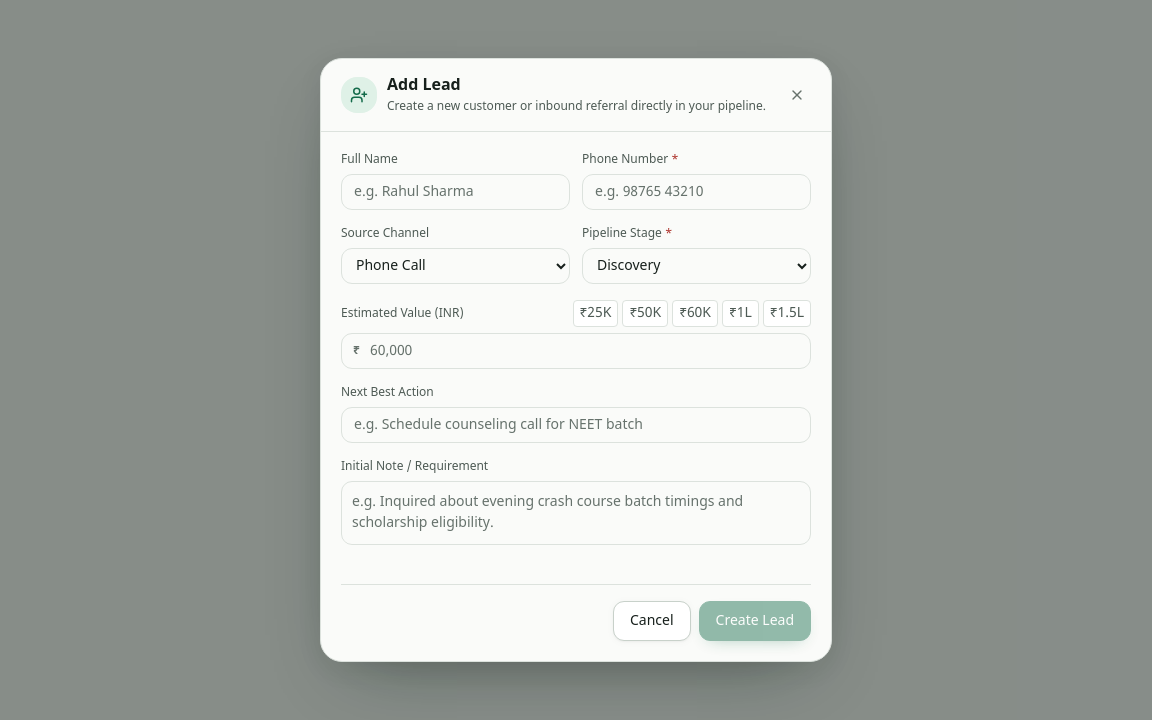
Test: AddLeadModal › displays error banner if lead creation fails
The width and height of the screenshot is (1152, 720).
Type "9876543210" into the field with placeholder "e.g. 98765 43210". click: (696, 192)
box: x1=582 y1=174 x2=811 y2=210
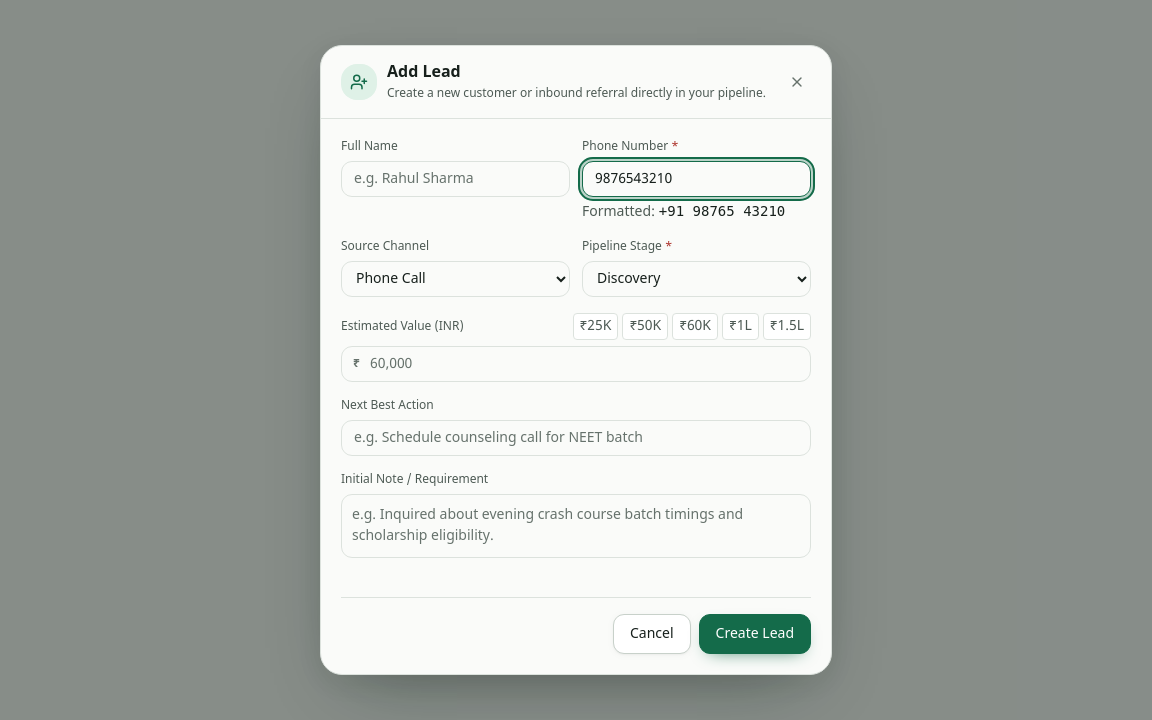
Click the button "Create Lead". click: (755, 634)
box: x1=699 y1=614 x2=811 y2=654
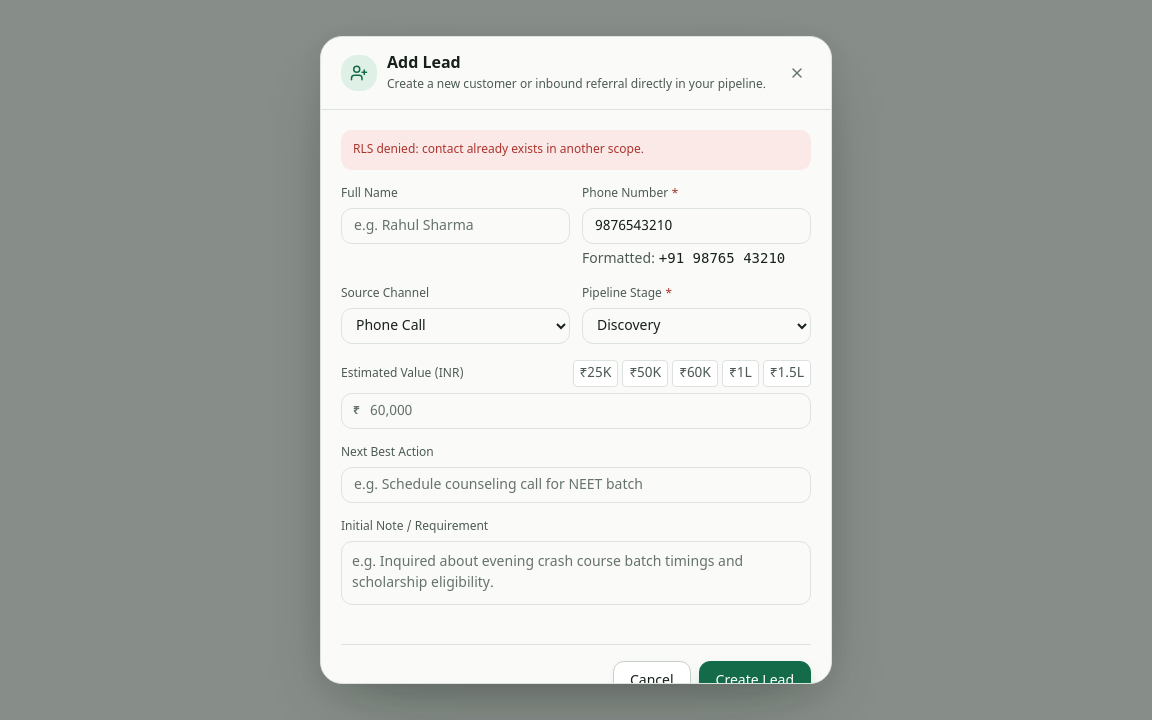
Expected: the message reads "RLS denied: contact already exists in another scope.", x1=353 y1=142 x2=644 y2=158
